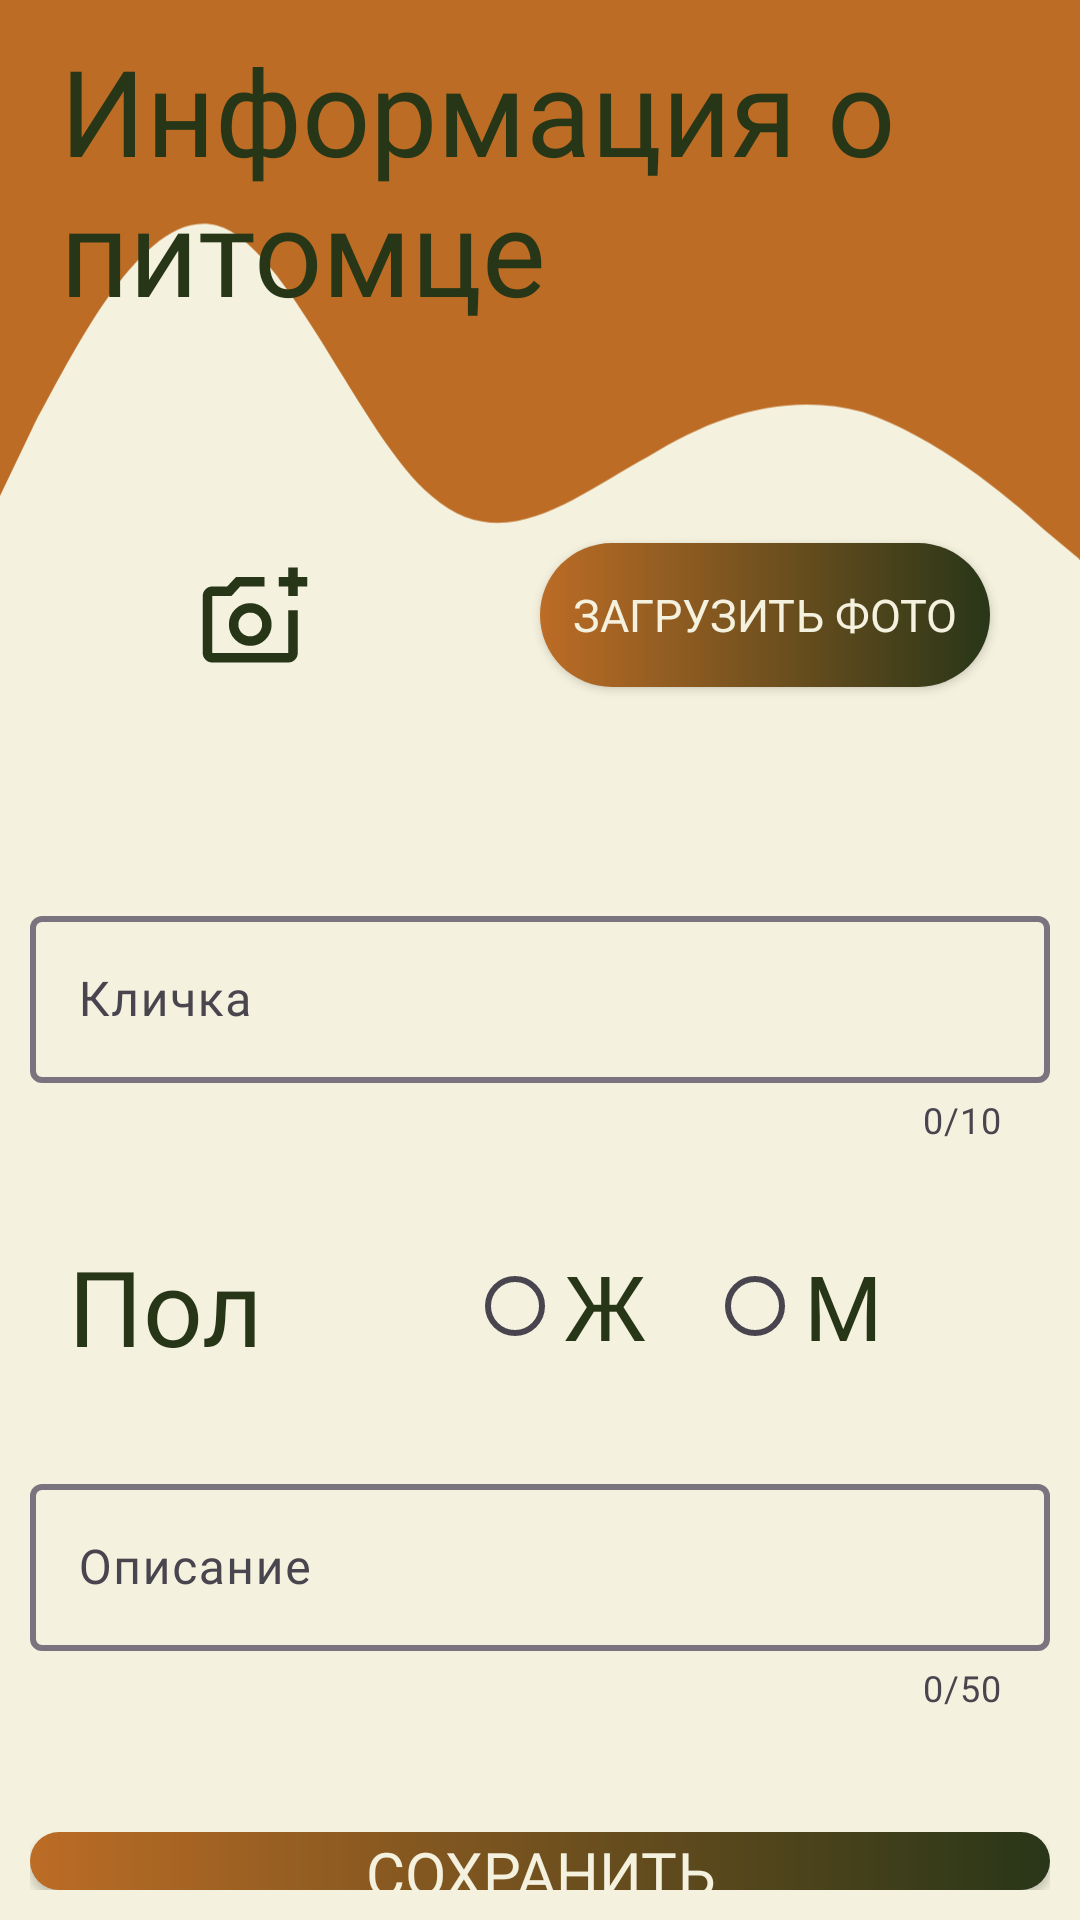

Screen size 1080px x 1920px. Icon name, then its box in pixels as (x1, y1, x2, y2):
symbols add photo: (202, 567, 308, 663)
